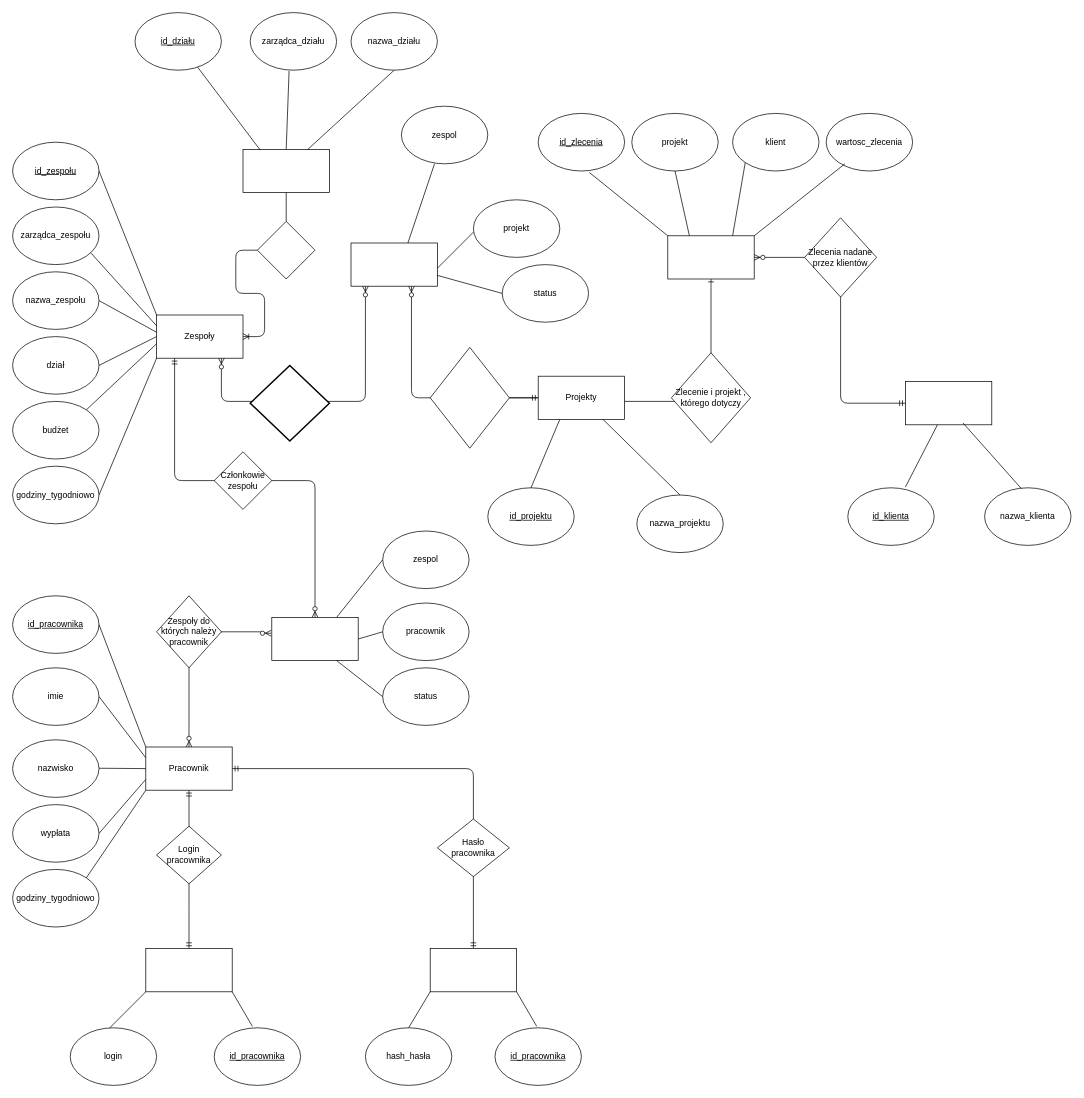
Image size: 1084x1098. Some labels were removed from this diagram. The centre of each missing label's shape, as x and y in pixels:
"Działy" goes at point 285,171.
"Grupy_projektow" goes at point 393,264.
"Grupy_zespołów" goes at point 314,639.
"Hasla" goes at point 473,970.
"Klienci" goes at point 948,403.
"Loginy" goes at point 188,970.
"Zespoły i projekty które realizują" goes at point 289,402.
"Zespoły w dziale" goes at point 286,250.
"Zespoły, które realizują lub realizowały dany projekt" goes at point 469,397.
"Zlecenia" goes at point 710,257.
